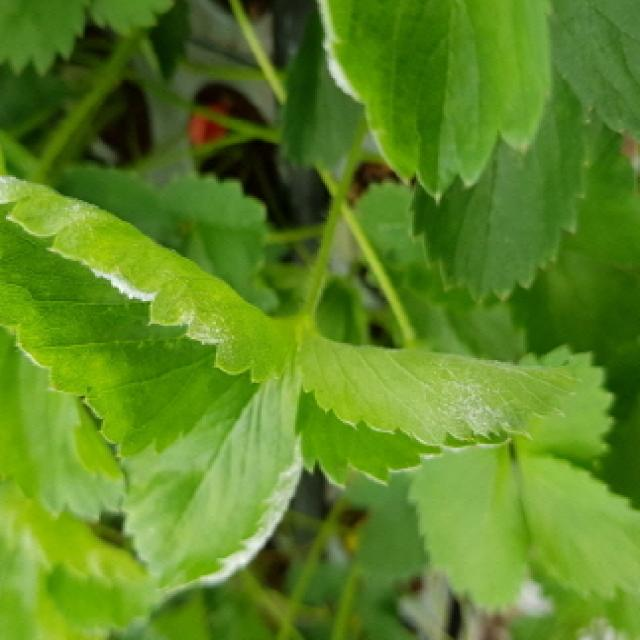Powdery Mildew Leaf: (0, 173, 300, 463), (317, 0, 556, 201), (119, 345, 306, 596), (296, 334, 578, 490)
